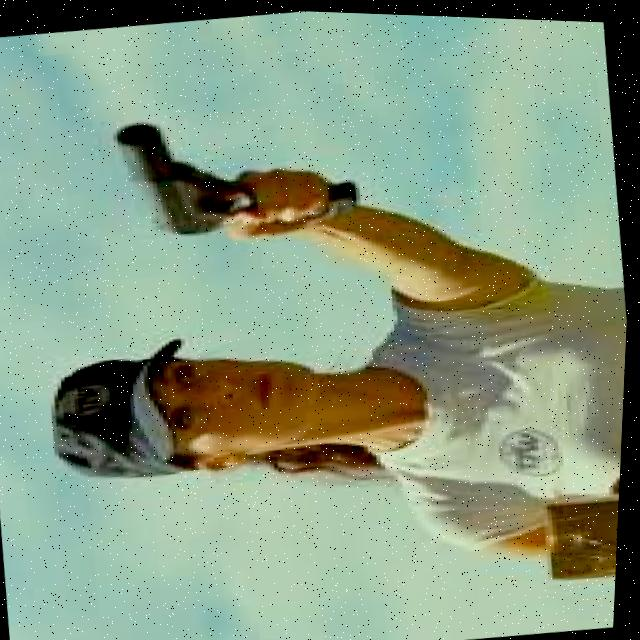pistol: (111, 109, 255, 244)
